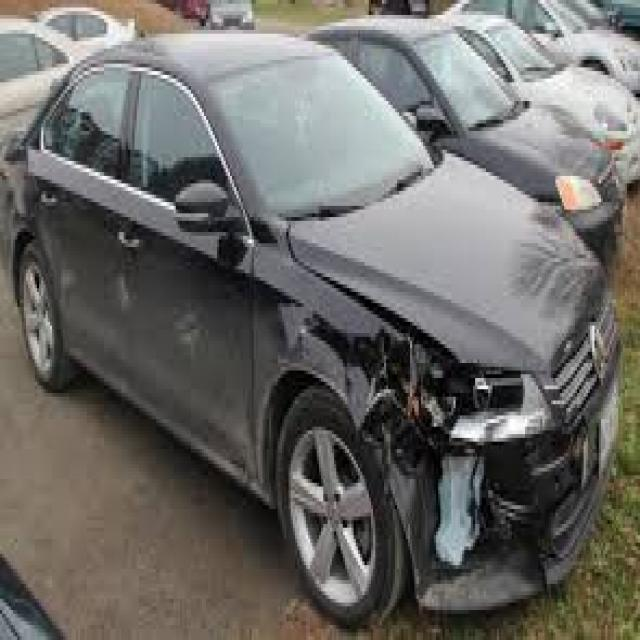minor: (50, 254, 218, 378)
moderate: (271, 252, 560, 562)
